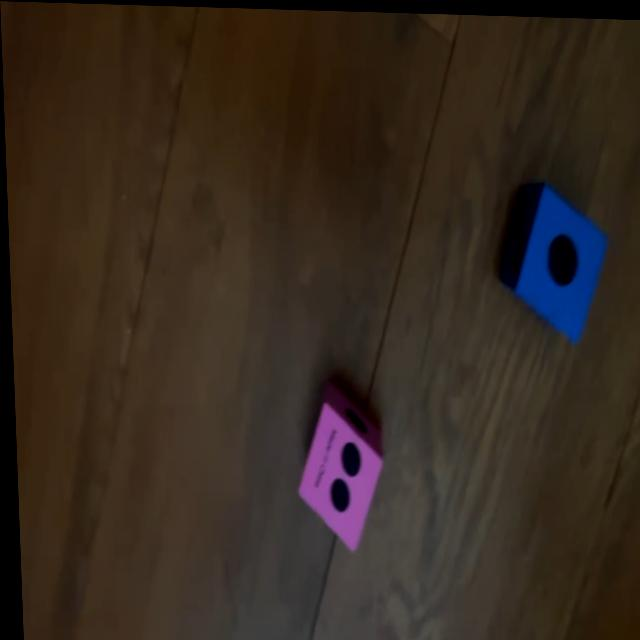cube: (495, 179, 609, 337)
